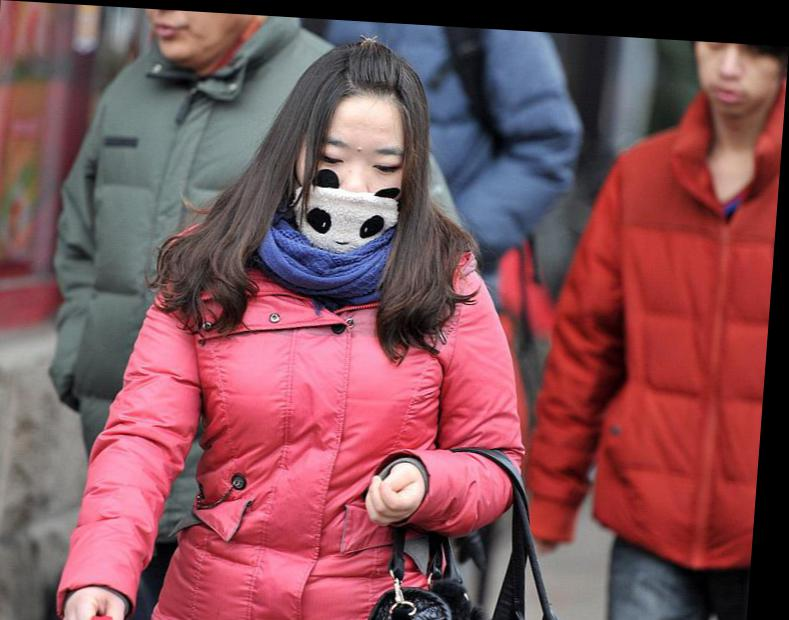NONE: (694, 33, 788, 108), (147, 8, 244, 69)
WRONG: (292, 127, 410, 244)
